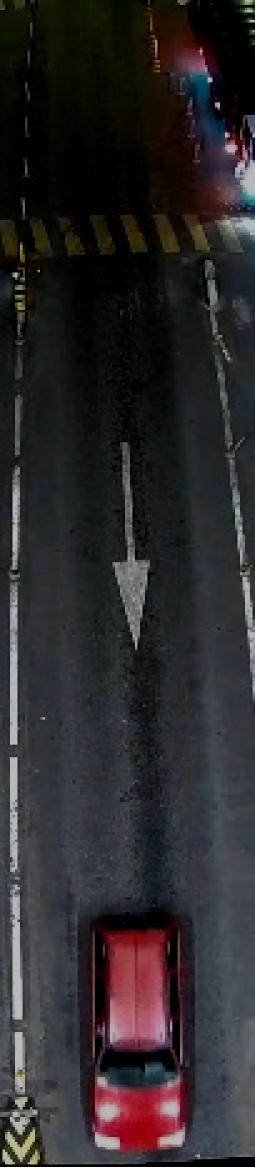car: (83, 908, 198, 1160)
